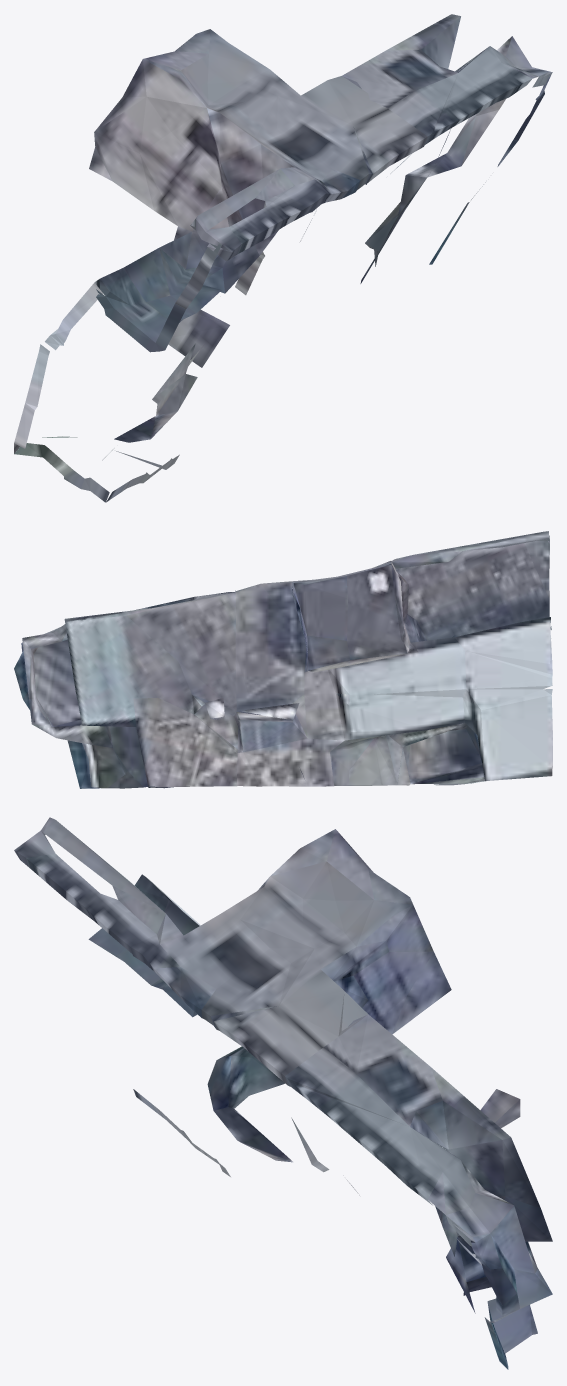
File: UlRPVEYubm9kZWRhdGEucGxhbmV0b2lkPWVhcnRoLG5vZGVfZGF0YV9lcG9jaD05MTYscGF0aD0zMTQzNDE1MjYwNzM2MjcxNTU1NCxjYWNoZV92ZXJzaW9uPTY.glb
The picture shows the model from 3 angles, top to bottom: view 1: azimuth 30°, elevation 25°; view 2: azimuth 150°, elevation 25°; view 3: azimuth 270°, elevation 25°; orthographic projection. The views are drawn at different scales.
Size of the model in its own units: 28.44 by 14.88 by 20.1.
Materials: 1 (1 with a texture image).
